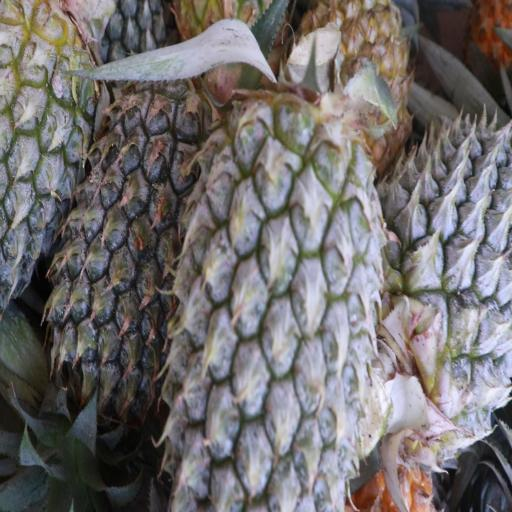Pineapple - v8 v1: (303, 0, 415, 151)
